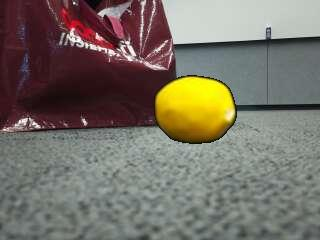lemon: (156, 77, 235, 144)
